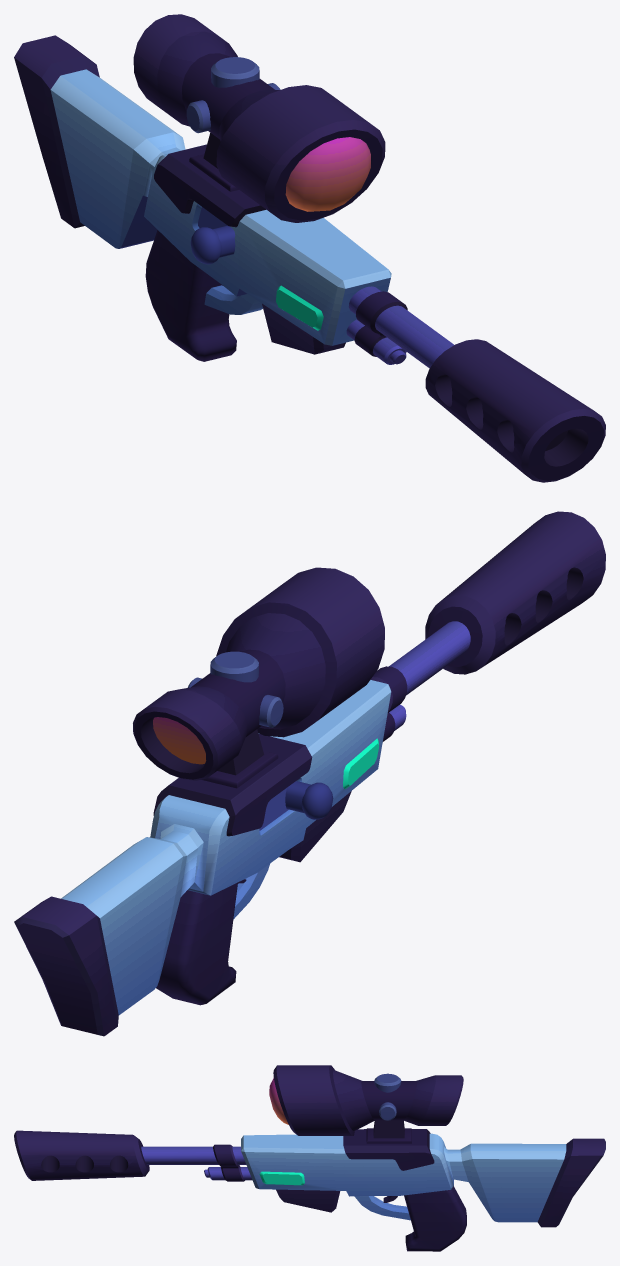
File: Sniper_rifle.fbx
3 renders of one model, top to bottom at view 1: azimuth 30°, elevation 25°; view 2: azimuth 150°, elevation 25°; view 3: azimuth 270°, elevation 25°, orthographic. The views are drawn at different scales.
Parts seen in each view (by area): view 1: Mode_Weapon_Sniper_RIfle_01; view 2: Mode_Weapon_Sniper_RIfle_01; view 3: Mode_Weapon_Sniper_RIfle_01.
Boxes of the visible parts, x1,y1,x2,y2 form: Mode_Weapon_Sniper_RIfle_01: (14, 14, 605, 482); Mode_Weapon_Sniper_RIfle_01: (14, 511, 605, 1036); Mode_Weapon_Sniper_RIfle_01: (14, 1065, 605, 1251).
Size of the model in its own units: 33.34 by 80.56 by 242.
